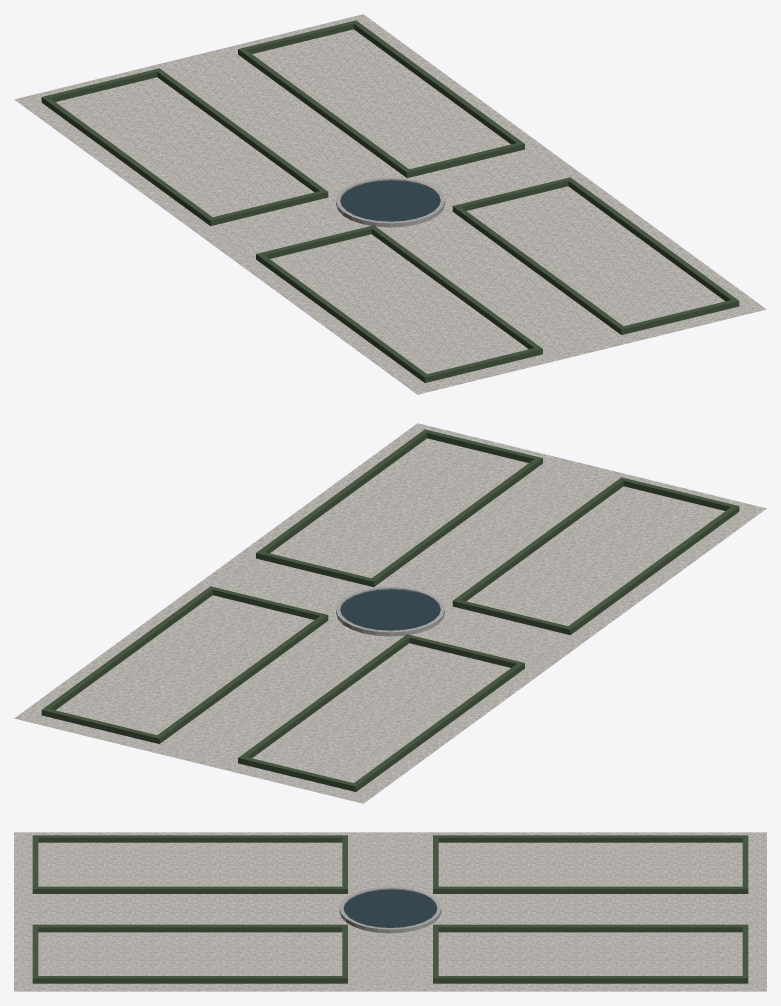
File: parterre.glb
3 views of the same model, one above another, from view 1: azimuth 30°, elevation 25°; view 2: azimuth 150°, elevation 25°; view 3: azimuth 270°, elevation 25° (orthographic). The views are drawn at different scales.
Visible parts, largest first — view 1: parterre; view 2: parterre; view 3: parterre.
Boxes of the visible parts, <box> form: parterre: <box>14,14,766,394</box>; parterre: <box>14,423,766,803</box>; parterre: <box>14,832,766,991</box>.
Size of the model in its own units: 40 by 0.6 by 80.
4 materials, 2 textured.
